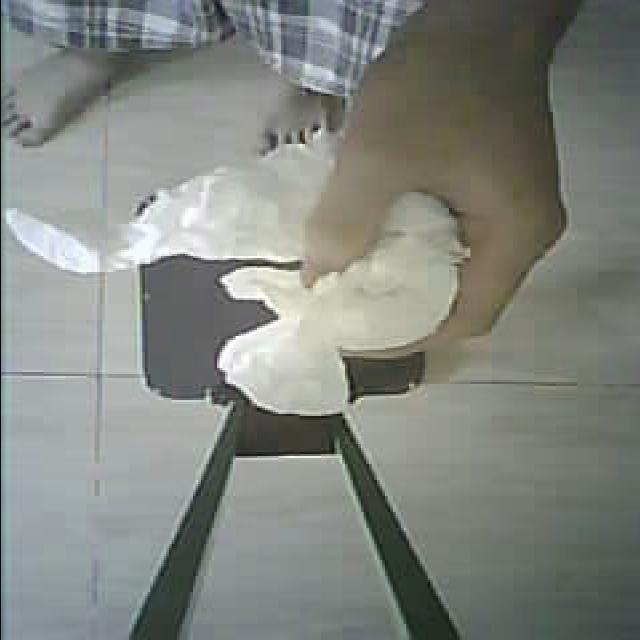Paper: (12, 76, 502, 449)
